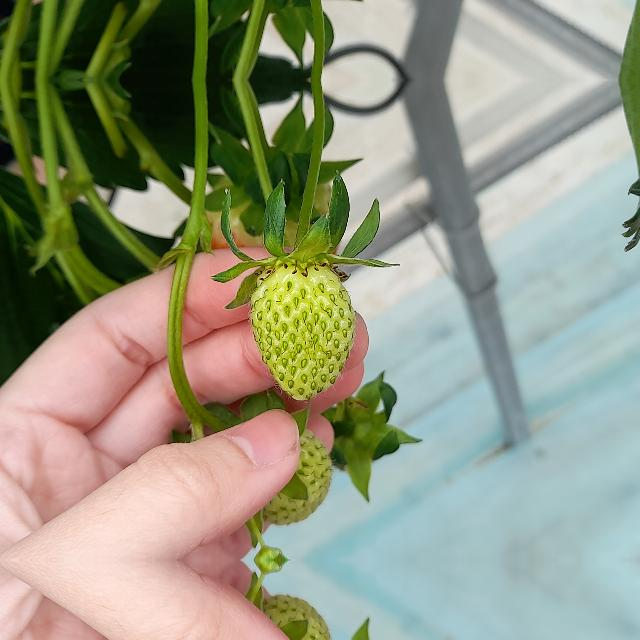Health_25: (250, 264, 354, 400), (230, 428, 332, 524), (230, 596, 332, 640)
